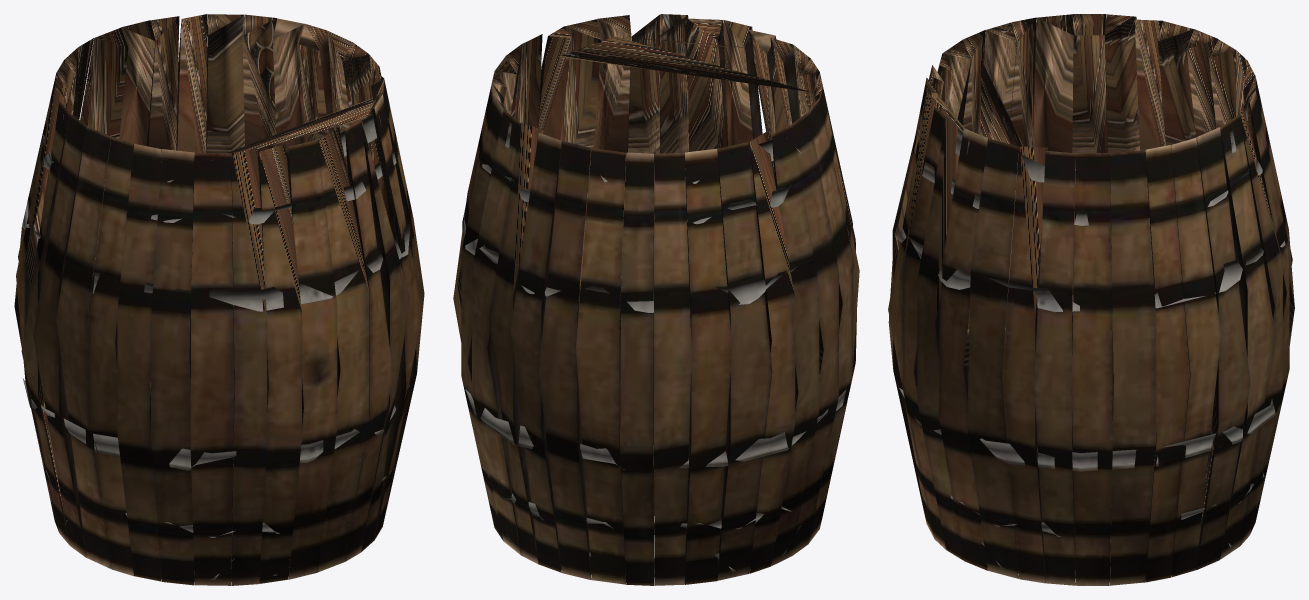
File: barrel_wine.glb
3 views of the same model, side by side, from view 1: azimuth 30°, elevation 25°; view 2: azimuth 150°, elevation 25°; view 3: azimuth 270°, elevation 25° (orthographic).
Parts seen in each view (by area): view 1: barrel_wine; view 2: barrel_wine; view 3: barrel_wine.
Boxes of the visible parts, x1,y1,x2,y2 form: barrel_wine: (14, 14, 424, 585); barrel_wine: (453, 14, 859, 585); barrel_wine: (888, 14, 1294, 585).
Bounding box in the file's own units: 0.7419 × 0.8695 × 0.7405.
Materials: 1 (1 with a texture image).
